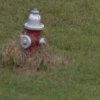Hydrant: (14, 5, 54, 76)
